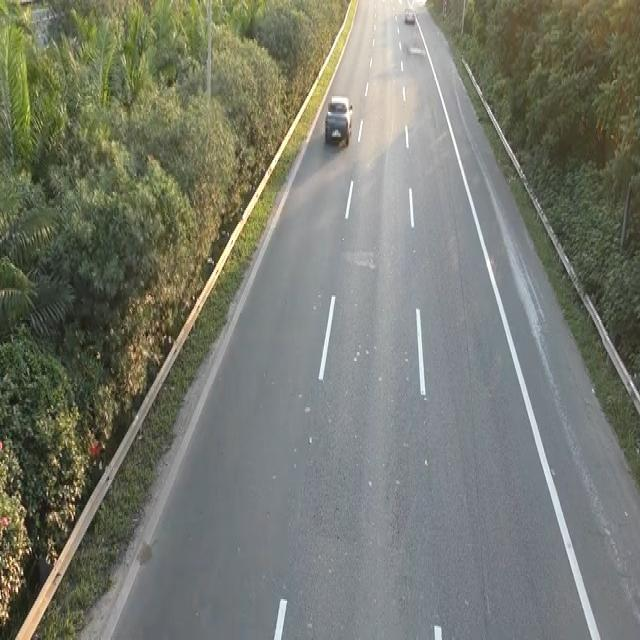car: (323, 92, 354, 148)
